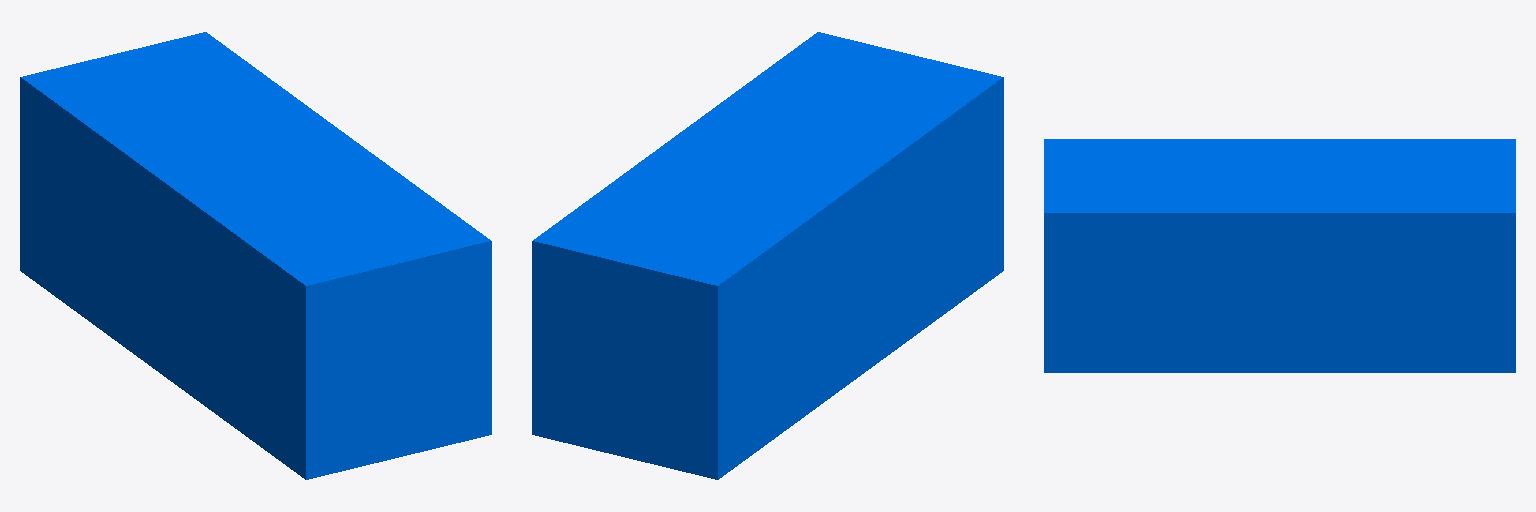
robot.urdf — rectangle:
<?xml version="1.0" ?>

<robot name="rectangle">
    <material name="rectangle">
        <color rgba="0 0.5 1 1"/>
    </material>
    <link name="rectangle">
        <contact>
            <lateral_friction value="1.0"/>
            <rolling_friction value="0.0"/>
            <inertia_scaling value="3.0"/>
            <contact_cfm value="0.0"/>
            <contact_erp value="1.0"/>
        </contact>
        <inertial>
            <origin rpy="0 0 0" xyz="0 0 0"/>
            <mass value="100"/>
            <inertia ixx="0.1" ixy="0" ixz="0" iyy="0.1" iyz="0" izz="0.1"/>
        </inertial>
        <visual>
            <origin rpy="0 0 0" xyz="0 0 0"/>
            <geometry>
                <box size="0.03 0.08 0.03"/>
            </geometry>
            <material name="rectangle"/>
        </visual>
        <collision>
            <origin rpy="0 0 0" xyz="0 0 0"/>
            <geometry>
                <box size="0.03 0.08 0.03"/>
            </geometry>
        </collision>
    </link>
</robot>

--- Render facts (derived) ---
3 views of the same robot in one strip: view 1: azimuth 30°, elevation 25°; view 2: azimuth 150°, elevation 25°; view 3: azimuth 270°, elevation 25° (orthographic).
Model rectangle with 1 links and 0 joints (none), rooted at rectangle, posed all joints at 0.
Visible links, largest first — view 1: rectangle; view 2: rectangle; view 3: rectangle.
Link boxes in pixels (bbox=[...]): rectangle: bbox=[20, 32, 491, 479]; rectangle: bbox=[532, 32, 1003, 479]; rectangle: bbox=[1044, 139, 1515, 372].
Bounding box of the posed robot: 0.03 × 0.08 × 0.03 m (x, y, z).
Geometry: primitives only (box / cylinder / sphere), no mesh files.